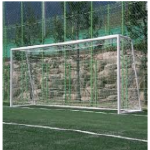goals: (9, 33, 143, 115)
